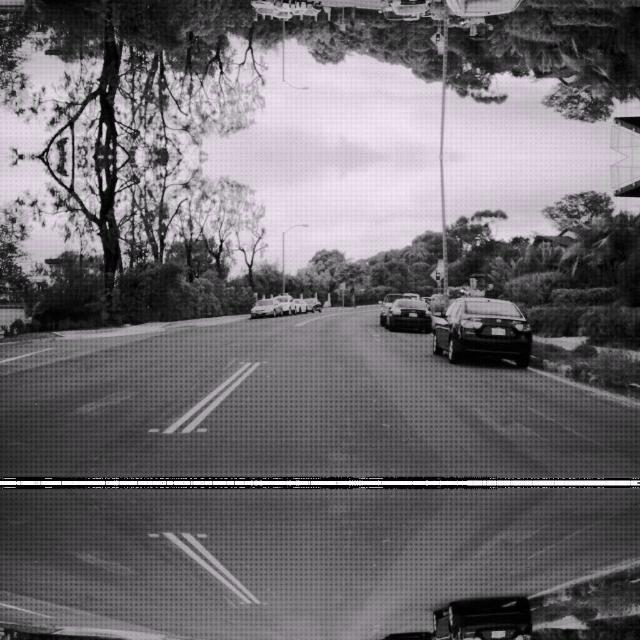signalAhead: (429, 265, 445, 281), (429, 31, 445, 47)
